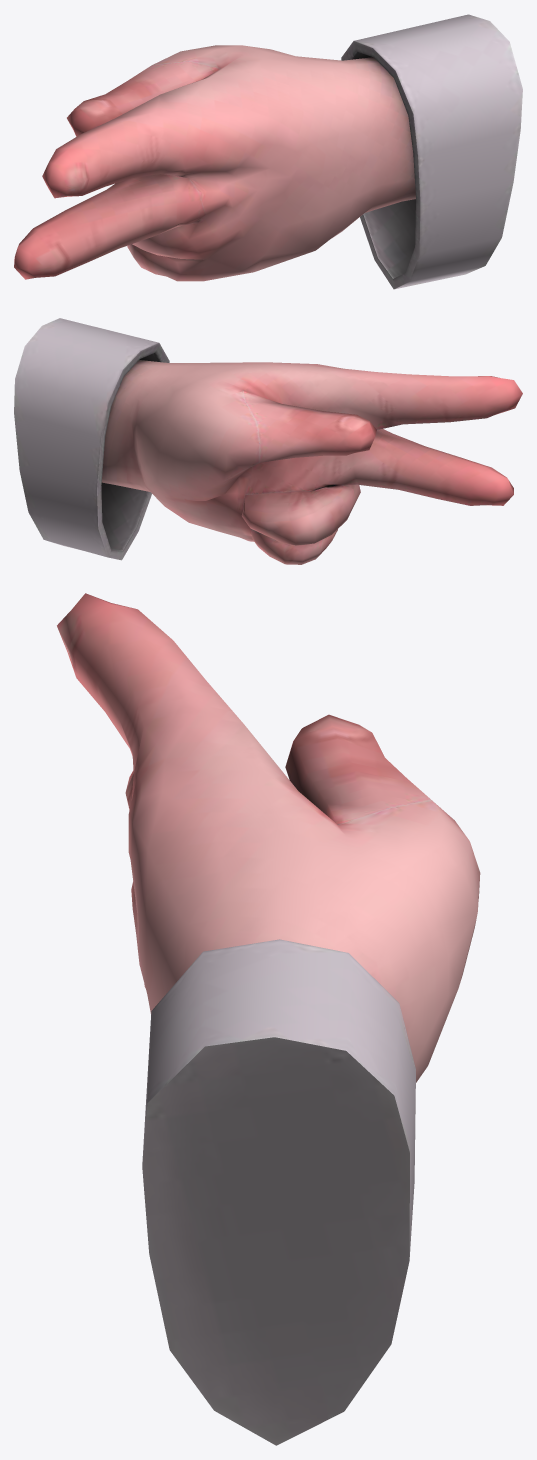
File: avatar1-hand-left.obj
The picture shows the model from 3 angles, top to bottom: view 1: azimuth 30°, elevation 25°; view 2: azimuth 150°, elevation 25°; view 3: azimuth 270°, elevation 25°; orthographic projection. The views are drawn at different scales.
Visible parts, largest first — view 1: hand-left; view 2: hand-left; view 3: hand-left.
Part boxes in pixels (x1=…): hand-left: x1=14, y1=14, x2=522, y2=289; hand-left: x1=14, y1=318, x2=522, y2=564; hand-left: x1=57, y1=593, x2=480, y2=1445.
Bounding box in the file's own units: 0.3688 × 0.1858 × 0.1531.
Materials: 1 (1 with a texture image).
